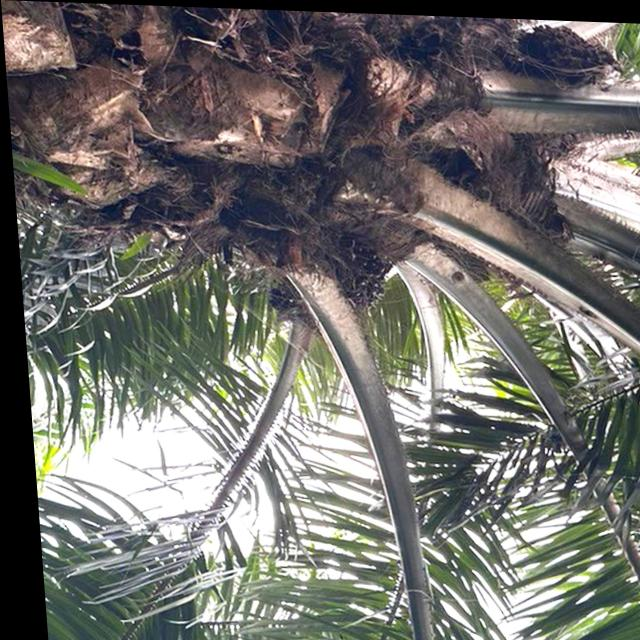almost: (252, 230, 395, 335)
